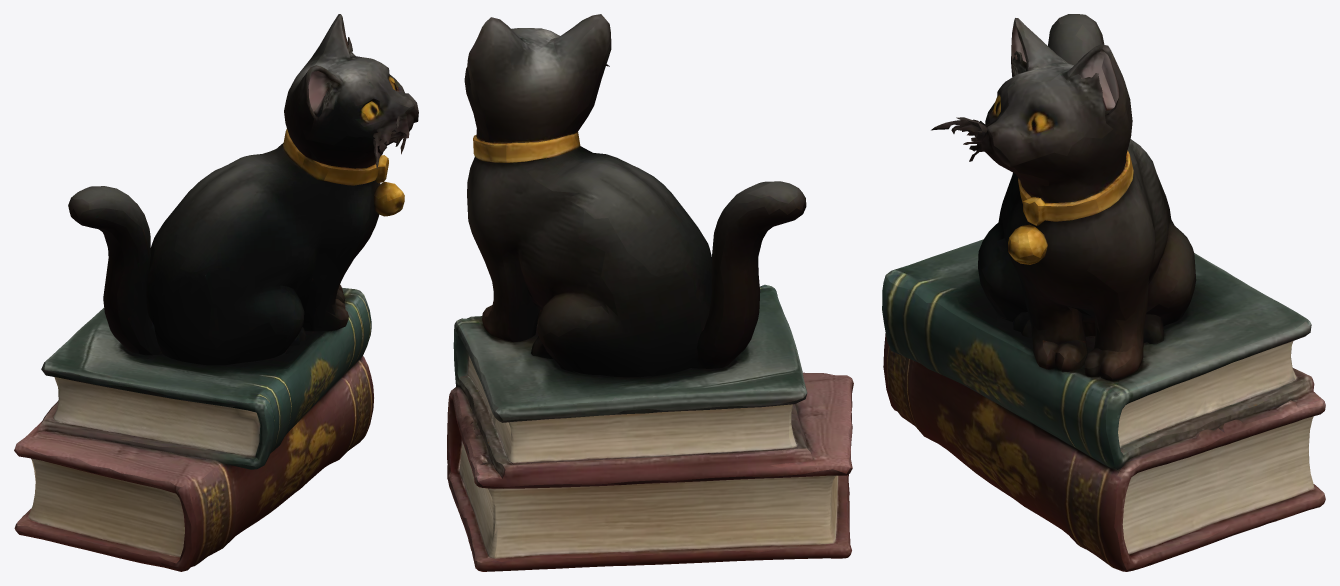
Rendered from cat-books.glb.
The picture shows the model from 3 angles, left to right: view 1: azimuth 30°, elevation 25°; view 2: azimuth 150°, elevation 25°; view 3: azimuth 270°, elevation 25°; orthographic projection. The views are drawn at different scales.
Parts seen in each view (by area): view 1: geometry_0; view 2: geometry_0; view 3: geometry_0.
Part boxes in pixels (x1,y1,x2,y2): geometry_0: (14, 14, 418, 571); geometry_0: (447, 14, 853, 571); geometry_0: (882, 14, 1325, 571).
Bounding box in the file's own units: 0.1949 × 0.22 × 0.1724.
Materials: 1 (1 with a texture image).
